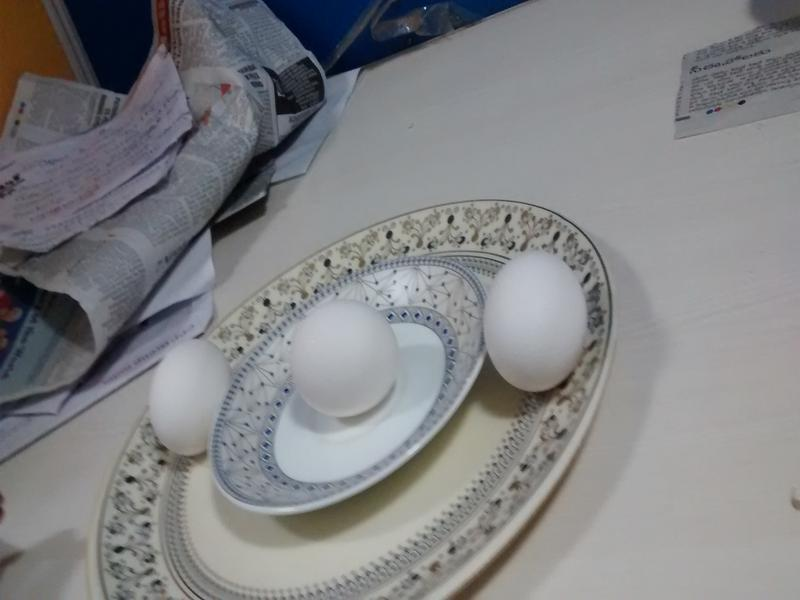egg: (283, 308, 409, 418)
